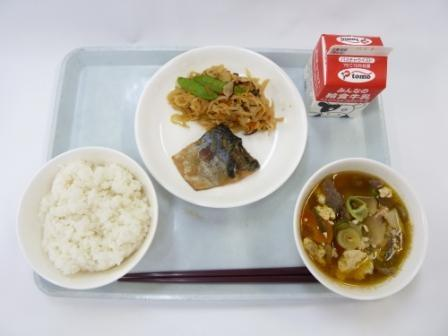Fish: (170, 125, 262, 200)
Milk: (295, 25, 419, 129)
Rice: (16, 147, 151, 285)
Soups: (295, 165, 428, 285)
pasta: (165, 60, 278, 130)
